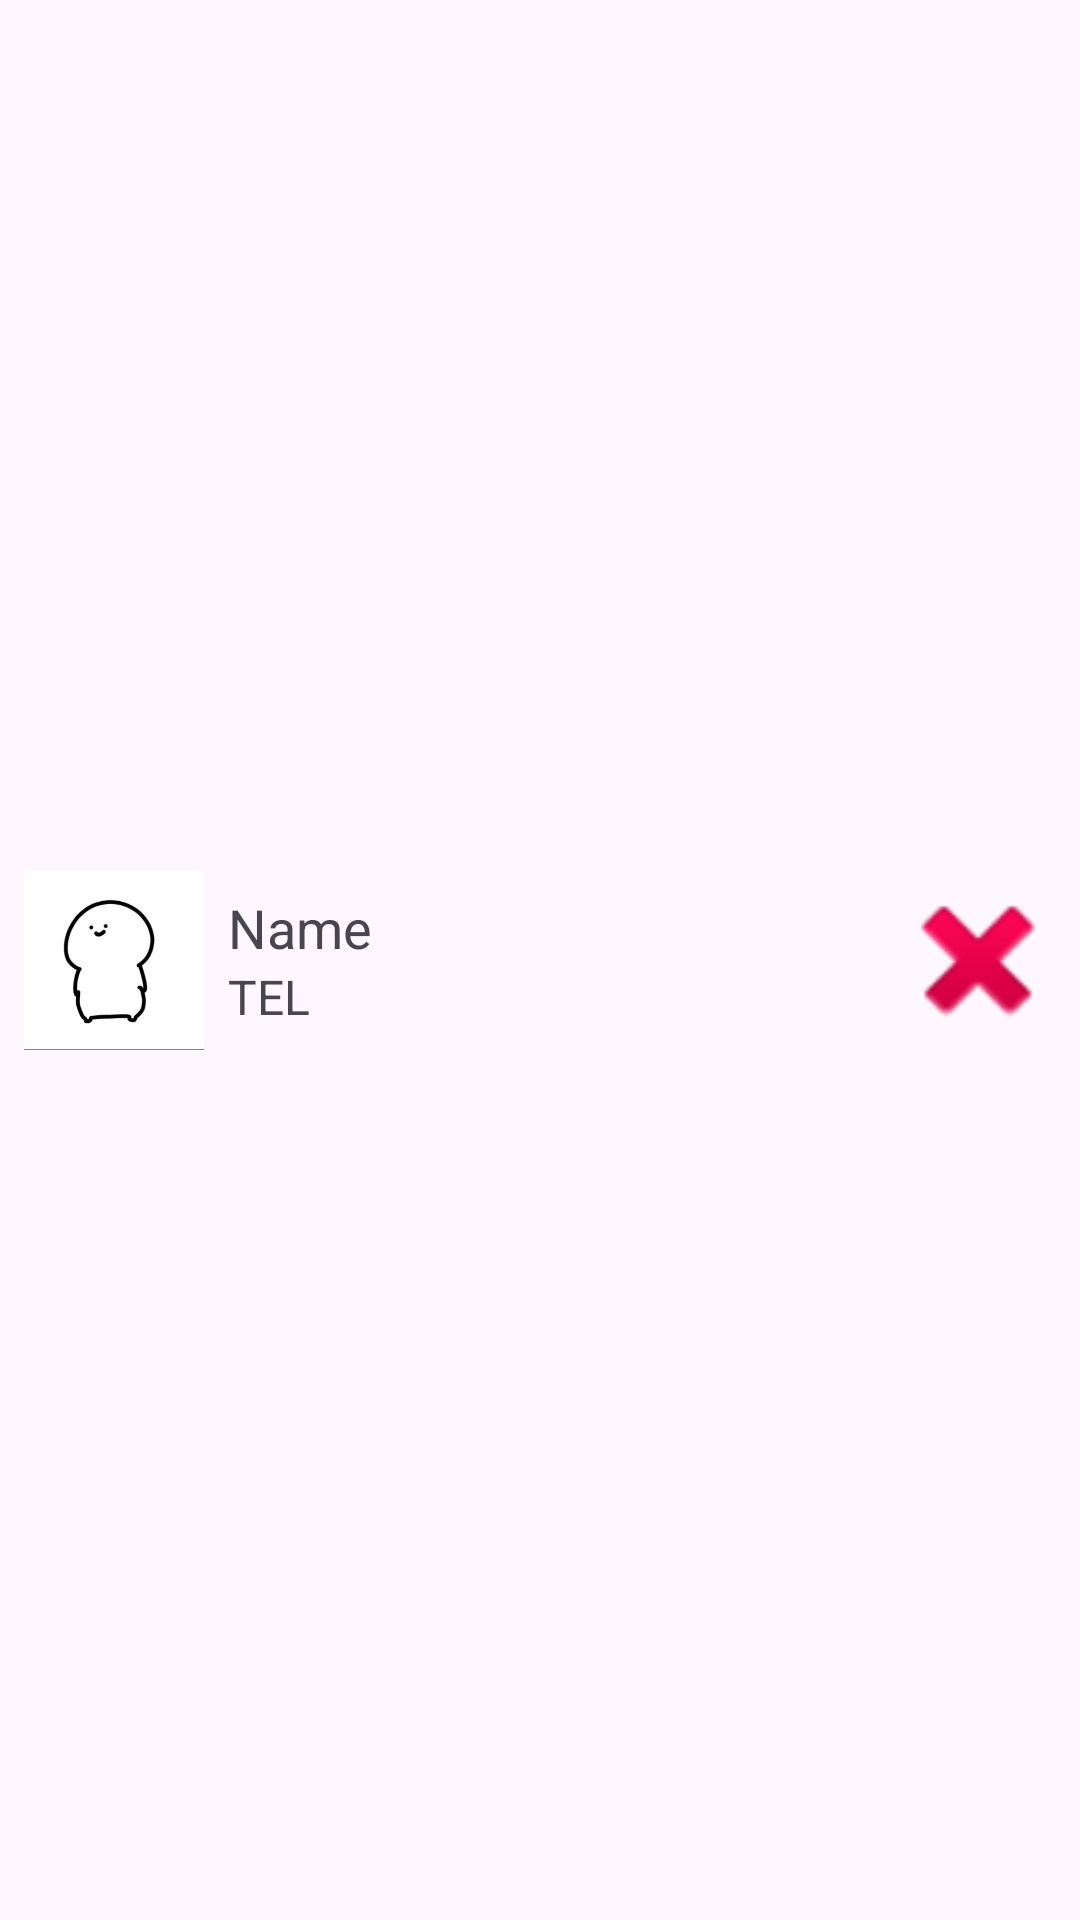

Where to tap for icons on this 1080 × 1920 app screen, as [x,y]:
delete: [978,960]
head: [114,975]
